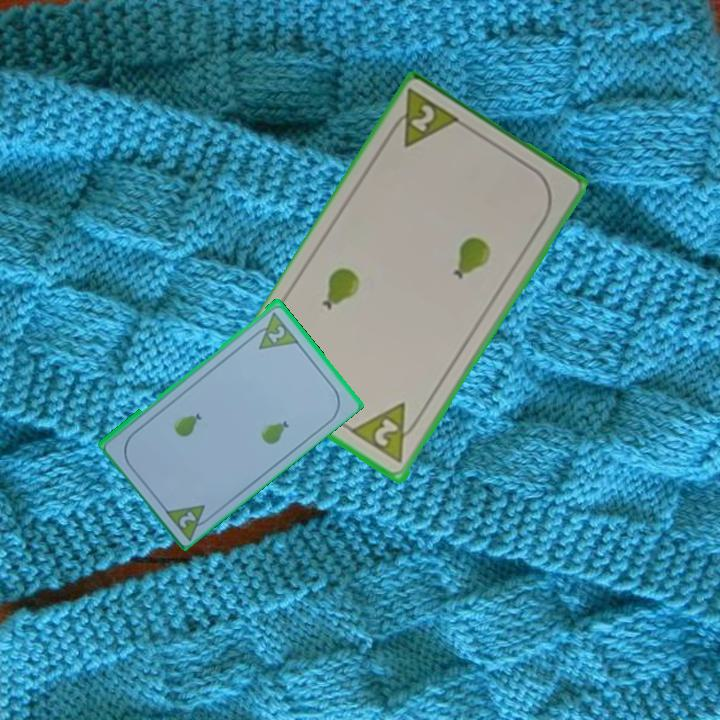2p: (383, 86, 465, 152), (349, 399, 426, 467), (264, 322, 288, 345), (175, 507, 199, 530)
